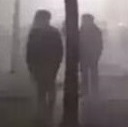person: (26, 9, 64, 108), (79, 12, 103, 97)
